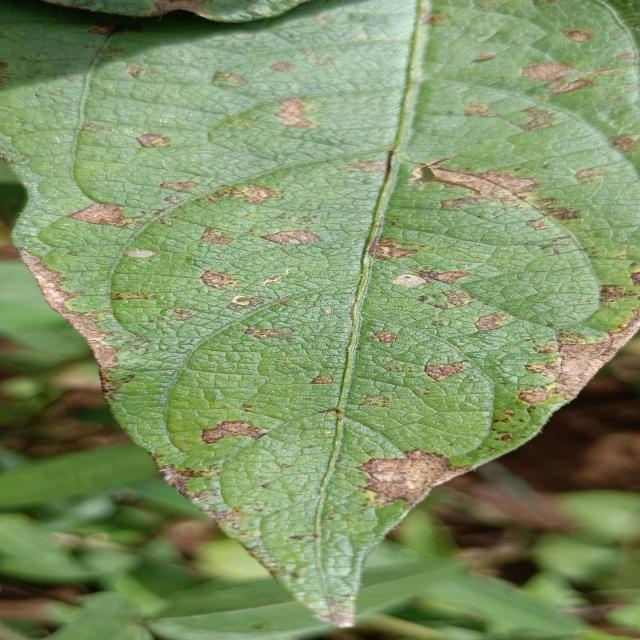Black gram_leaf spot: (17, 0, 640, 623)
